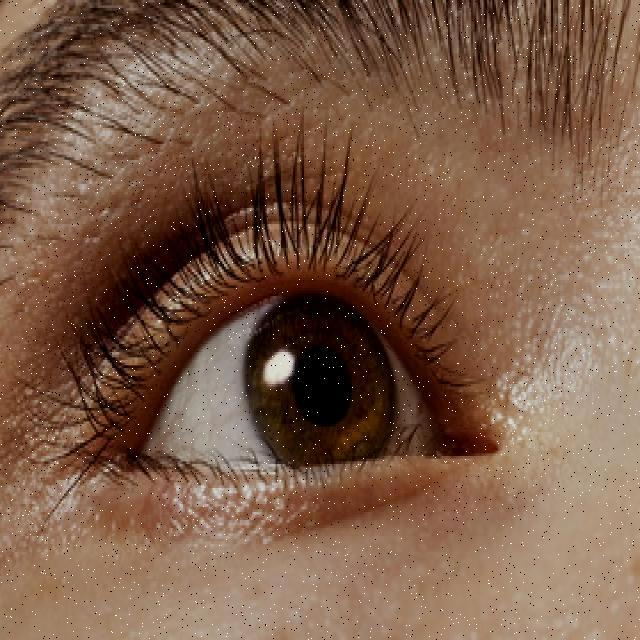Normal: (44, 180, 568, 578)
